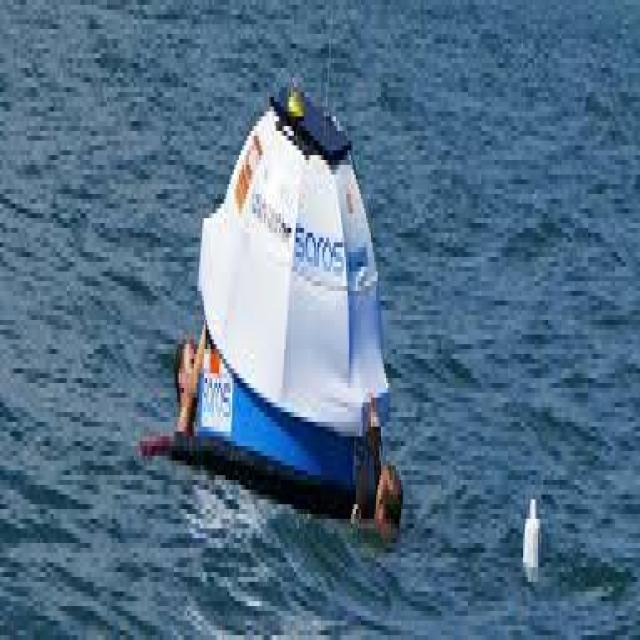Buoy: (183, 5, 408, 541)
